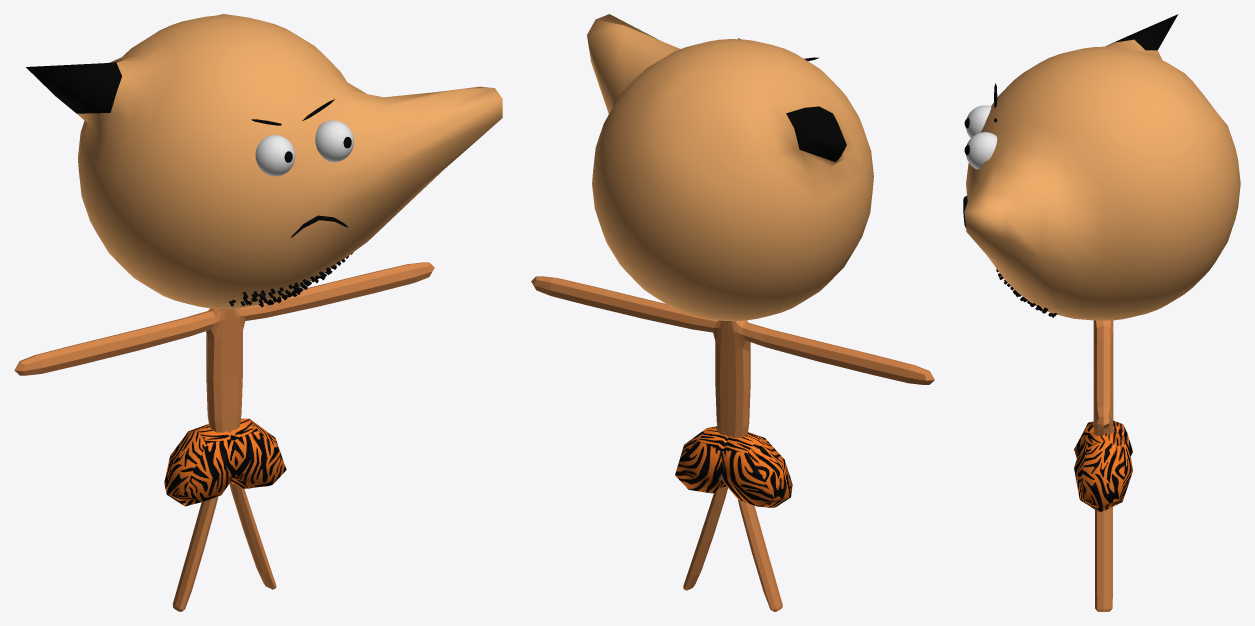
Rendered from nagu.fbx.
3 views of the same model, side by side, from view 1: azimuth 30°, elevation 25°; view 2: azimuth 150°, elevation 25°; view 3: azimuth 270°, elevation 25° (orthographic). The views are drawn at different scales.
Visible parts, largest first — view 1: Sphere, Cube, Cube.001, Sphere.001; view 2: Sphere, Cube, Cube.001; view 3: Sphere, Cube, Cube.001, Sphere.001.
Boxes of the visible parts, x1=… form: Sphere: x1=26, y1=14, x2=502, y2=309; Cube: x1=14, y1=262, x2=434, y2=611; Cube.001: x1=164, y1=418, x2=286, y2=506; Sphere.001: x1=255, y1=120, x2=353, y2=176; Sphere: x1=587, y1=14, x2=873, y2=321; Cube: x1=531, y1=276, x2=934, y2=611; Cube.001: x1=675, y1=426, x2=792, y2=507; Sphere: x1=964, y1=14, x2=1240, y2=320; Cube: x1=1093, y1=320, x2=1113, y2=611; Cube.001: x1=1074, y1=420, x2=1132, y2=512; Sphere.001: x1=965, y1=105, x2=997, y2=169.
Size of the model in its own units: 540 by 699 by 331.
Materials: 84 (1 with a texture image).
